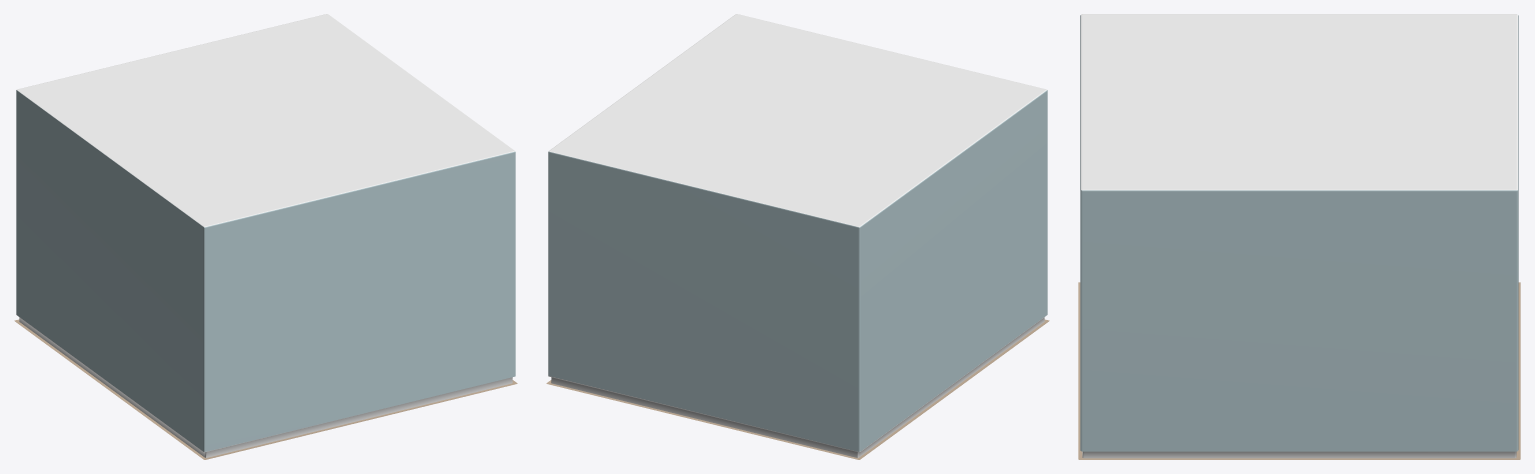
The model's file is Room.fbx.
3 views of the same model, side by side, from view 1: azimuth 30°, elevation 25°; view 2: azimuth 150°, elevation 25°; view 3: azimuth 270°, elevation 25° (orthographic). The views are drawn at different scales.
Parts seen in each view (by area): view 1: Room; view 2: Room; view 3: Room.
Part boxes in pixels (x1=…): Room: x1=14, y1=14, x2=517, y2=459; Room: x1=546, y1=14, x2=1049, y2=459; Room: x1=1078, y1=14, x2=1520, y2=459.
Size of the model in its own units: 117 by 82.5 by 123.
